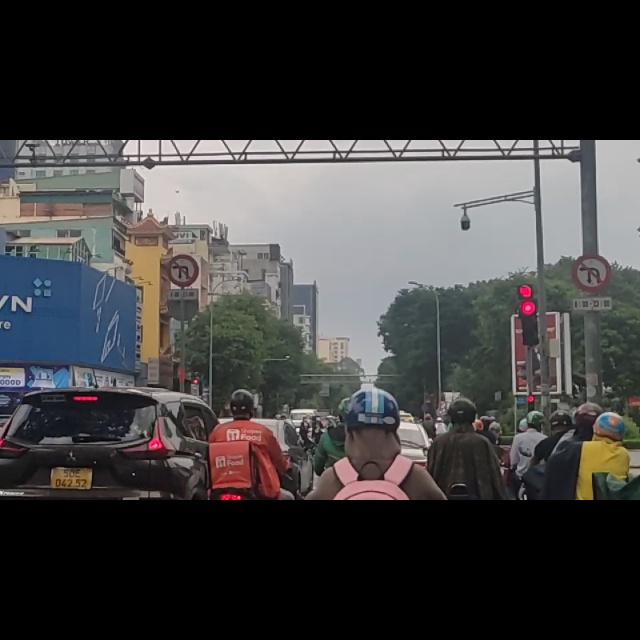bien_cam: (575, 206, 609, 271), (168, 201, 198, 258)
